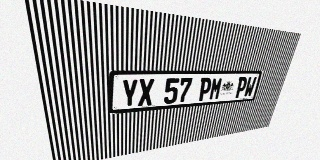5: (164, 78, 180, 104)
7: (177, 78, 193, 103)
M: (208, 77, 223, 100)
P: (197, 77, 212, 101), (234, 77, 248, 98)
W: (243, 77, 257, 97)
X: (138, 79, 154, 106)
Y: (121, 79, 138, 108)
